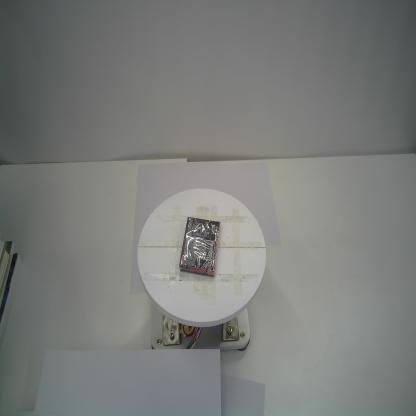Gum: (178, 216, 221, 278)
